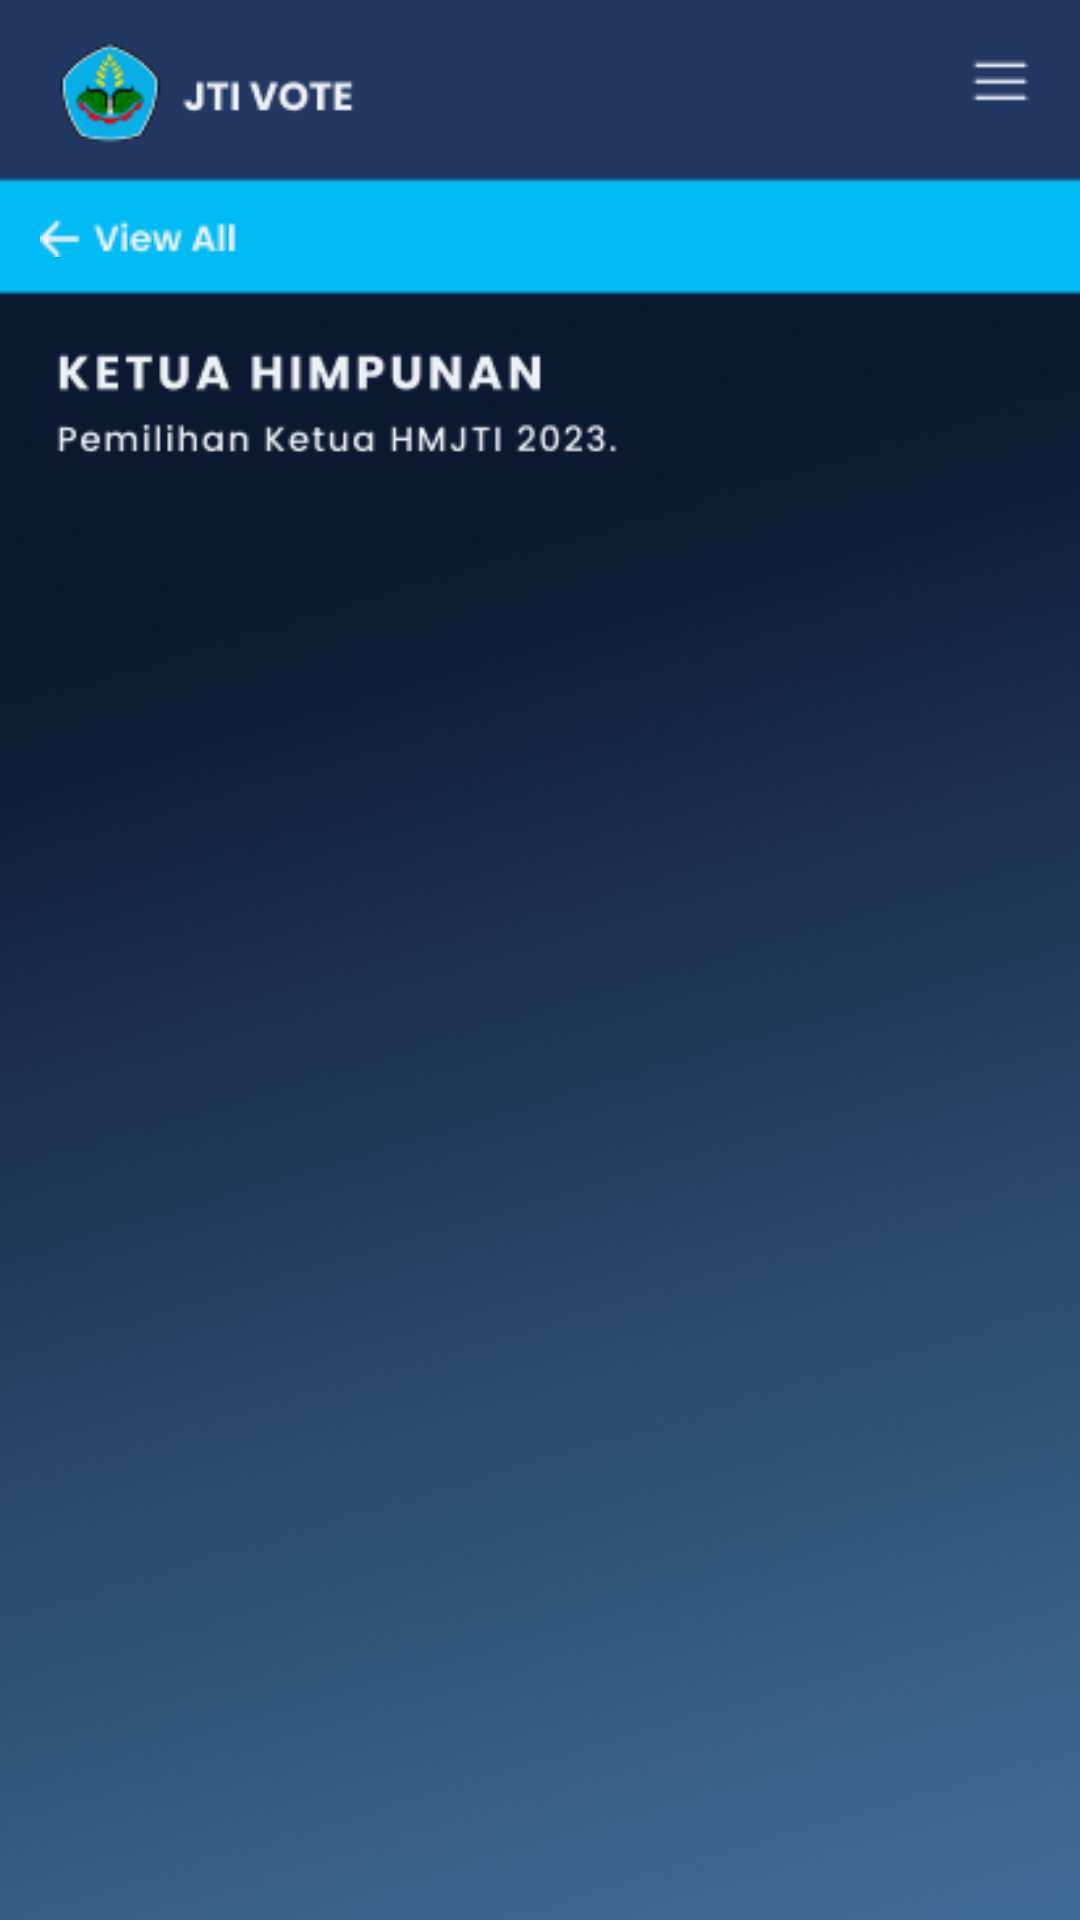

Icons on this 1080×1920 Android screen, each with its box as (x1, y1, x2, y2):
list: (973, 61, 1029, 101)
